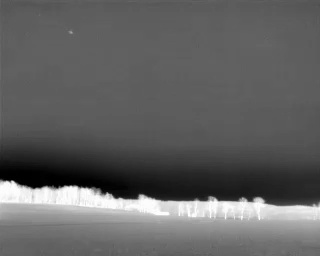BIRD: (67, 27, 75, 37)
